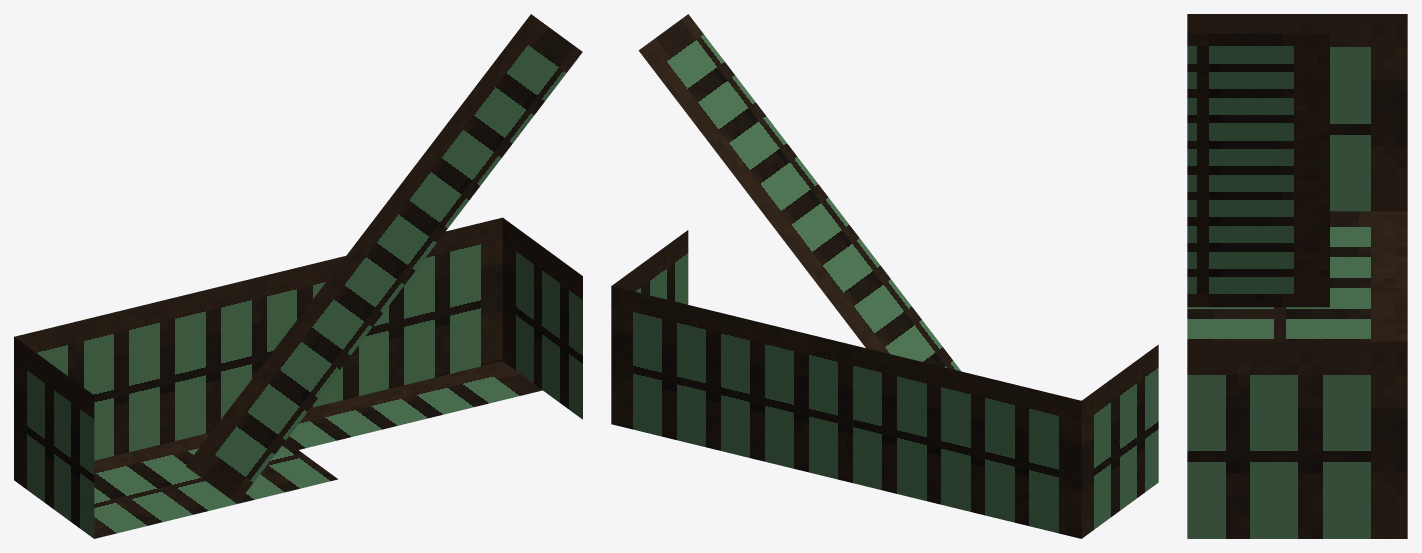
3 views of the same model, side by side, from view 1: azimuth 30°, elevation 25°; view 2: azimuth 150°, elevation 25°; view 3: azimuth 270°, elevation 25° (orthographic). The views are drawn at different scales.
Parts seen in each view (by area): view 1: balcony-ladder-bottom; view 2: balcony-ladder-bottom; view 3: balcony-ladder-bottom.
Boxes of the visible parts, bbox=[...] form: balcony-ladder-bottom: bbox=[14, 14, 582, 538]; balcony-ladder-bottom: bbox=[611, 14, 1158, 538]; balcony-ladder-bottom: bbox=[1187, 14, 1407, 538].
Size of the model in its own units: 1 by 0.7192 by 0.2837.
1 material, 1 textured.
